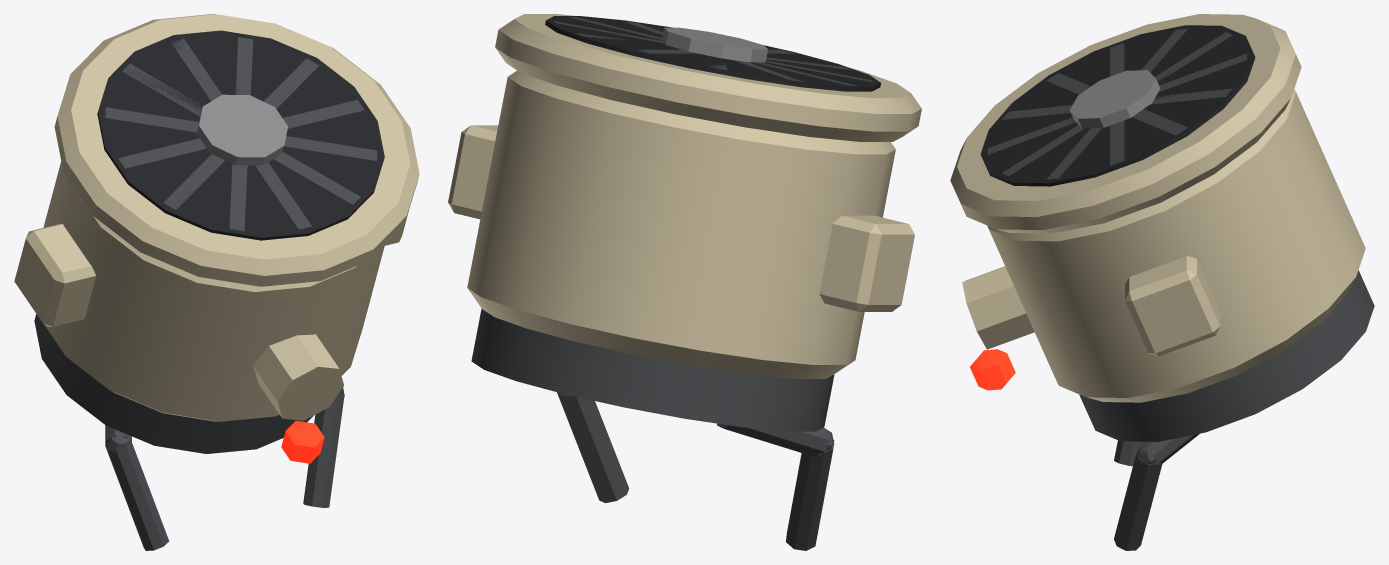
The model's file is construction-robot.glb.
3 renders of one model, left to right at view 1: azimuth 30°, elevation 25°; view 2: azimuth 150°, elevation 25°; view 3: azimuth 270°, elevation 25°, orthographic. The views are drawn at different scales.
Visible parts, largest first — view 1: body, anim_arms, anim_lamp_nozzle; view 2: body, anim_arms; view 3: body, anim_arms, anim_lamp_nozzle.
Boxes of the visible parts, x1,y1,x2,y2 form: body: (14, 14, 419, 453); anim_arms: (105, 388, 344, 550); anim_lamp_nozzle: (281, 420, 324, 463); body: (448, 14, 921, 431); anim_arms: (557, 392, 834, 550); body: (950, 14, 1374, 441); anim_arms: (1114, 433, 1199, 550); anim_lamp_nozzle: (970, 349, 1015, 390).
Bounding box in the file's own units: 0.702 × 0.8474 × 0.7105.
